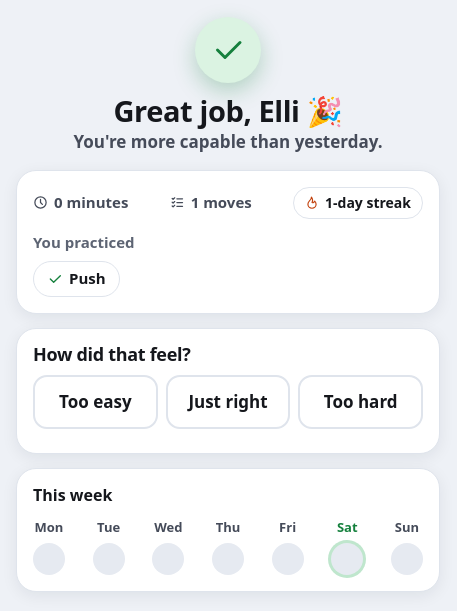
Test: DoneScreen › asks how it felt: one tap, says what changes next time, and can be changed
Click the radio button labelled "Too easy" at (95,402), box [33,374,158,429]
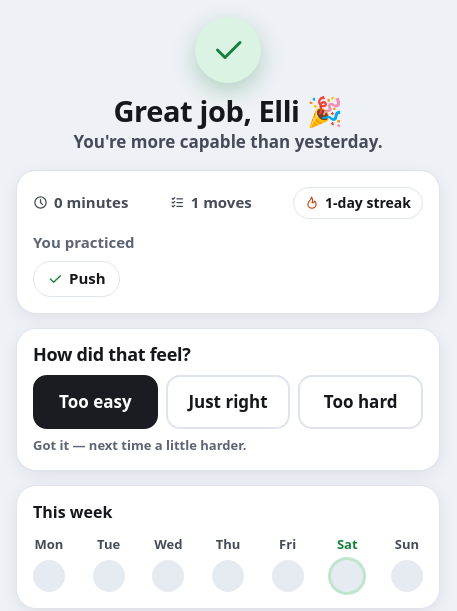
Result: the message shows "a little harder" at [33,436,246,454]
Click the radio button labelled "Too hard" at (361,402), box [298,374,423,429]
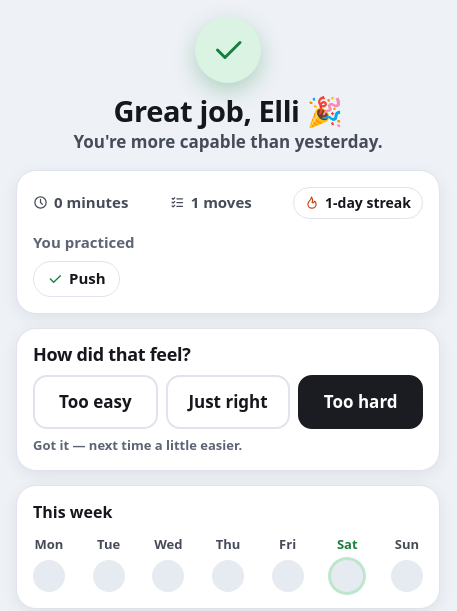
Result: the message shows "a little easier" at [33,436,242,454]
